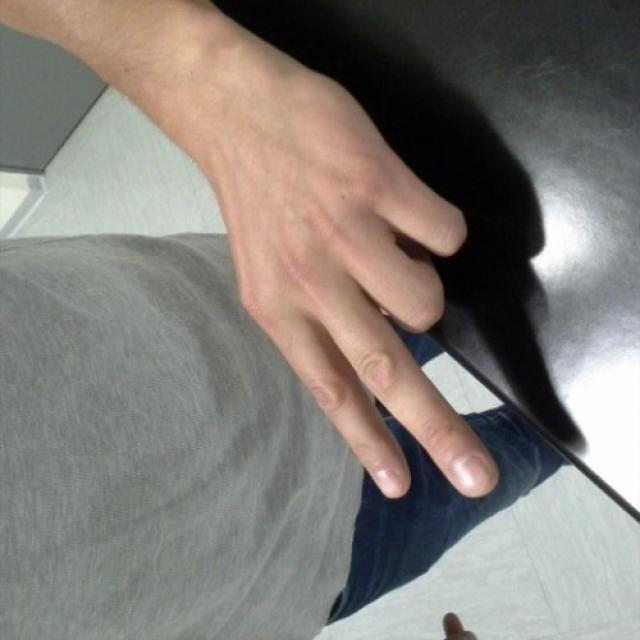scissors: (210, 171, 500, 499)
